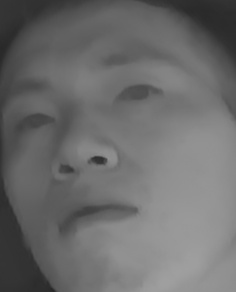eye: (109, 79, 170, 109), (6, 105, 59, 138)
mouth: (52, 191, 142, 245)
